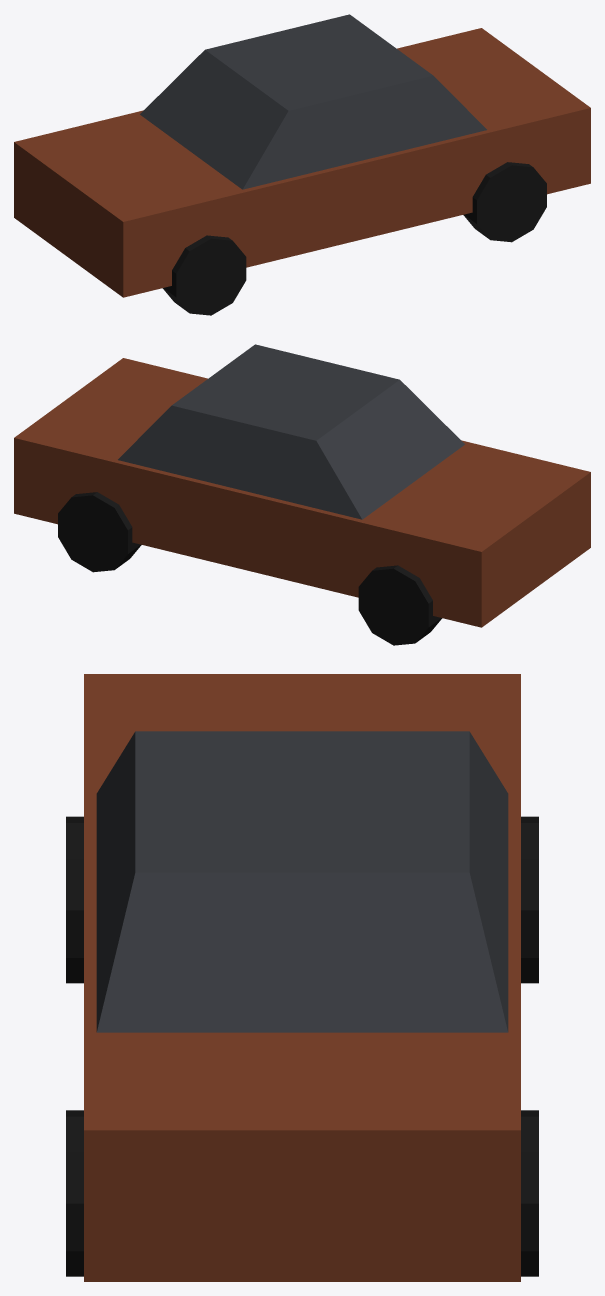
File: car.glb
3 renders of one model, top to bottom at view 1: azimuth 30°, elevation 25°; view 2: azimuth 150°, elevation 25°; view 3: azimuth 270°, elevation 25°, orthographic. The views are drawn at different scales.
Visible parts, largest first — view 1: car; view 2: car; view 3: car.
Part boxes in pixels (left/top/right/bottom): car: left=14, top=14, right=590, bottom=315; car: left=14, top=344, right=590, bottom=645; car: left=66, top=674, right=538, bottom=1281.
Size of the model in its own units: 4.2 by 1.45 by 1.84.
